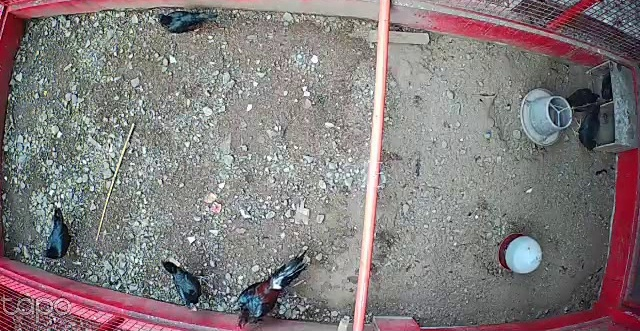Chicken: (159, 258, 212, 314), (570, 104, 608, 152), (42, 206, 74, 261), (156, 7, 218, 33), (562, 86, 604, 114)
Drinker: (499, 233, 545, 277)
Feeder: (519, 85, 572, 147)
Rooster: (234, 251, 312, 330)
